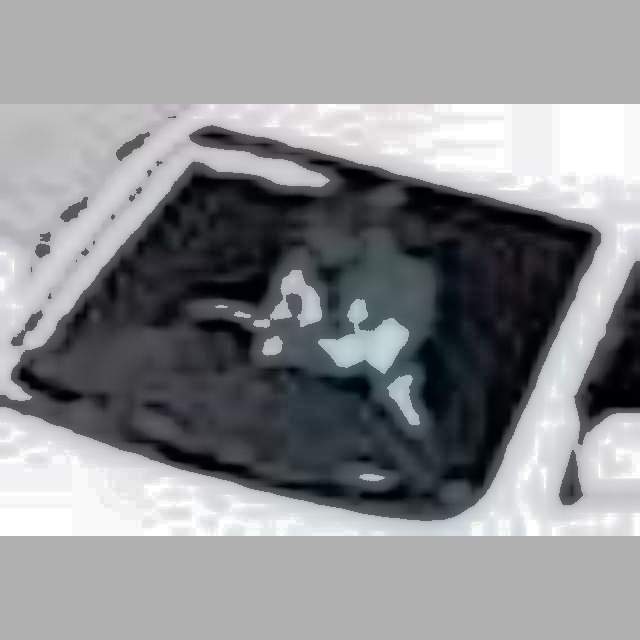pakai: (207, 212, 433, 401)
